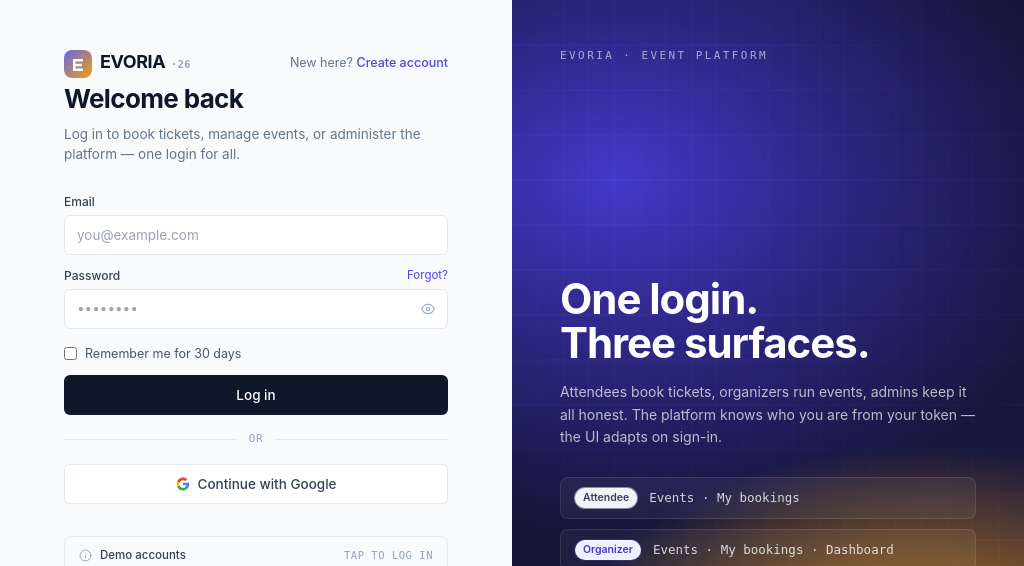
Test: LoginPage › shows an error message on 401
Type "bad@example.com" into the field labelled "Email" at (256,234), box [64, 214, 448, 254]
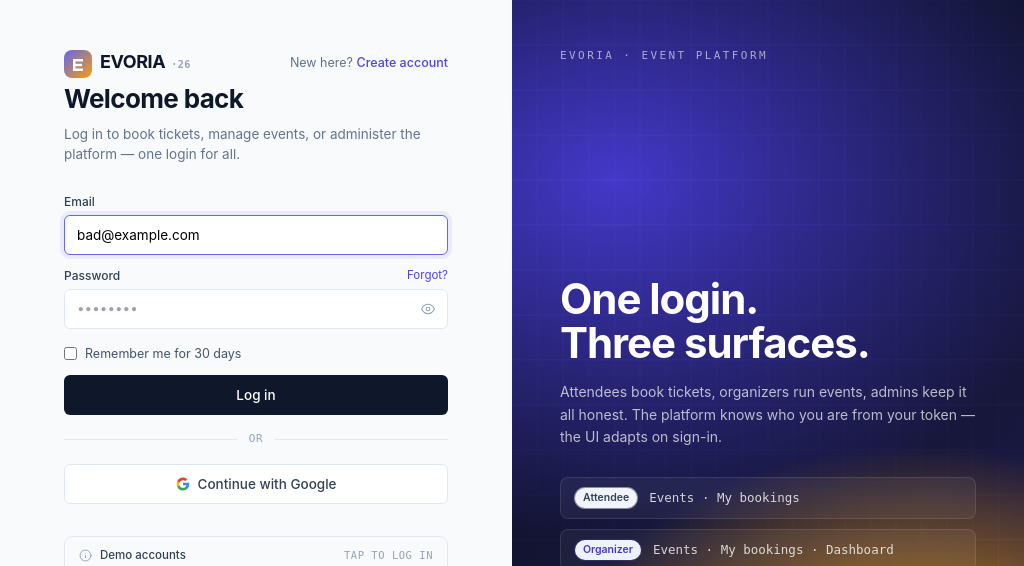
Type "whatever" into the password field labelled "Password" at (249,309), box [77, 298, 421, 319]
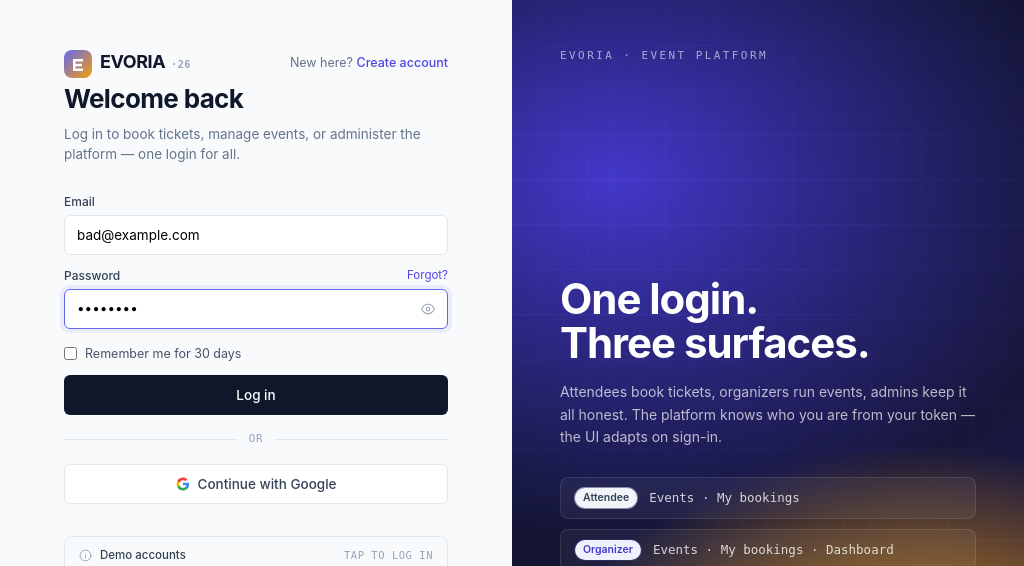
Click the button "Log in" at (256,395), box [64, 375, 448, 415]
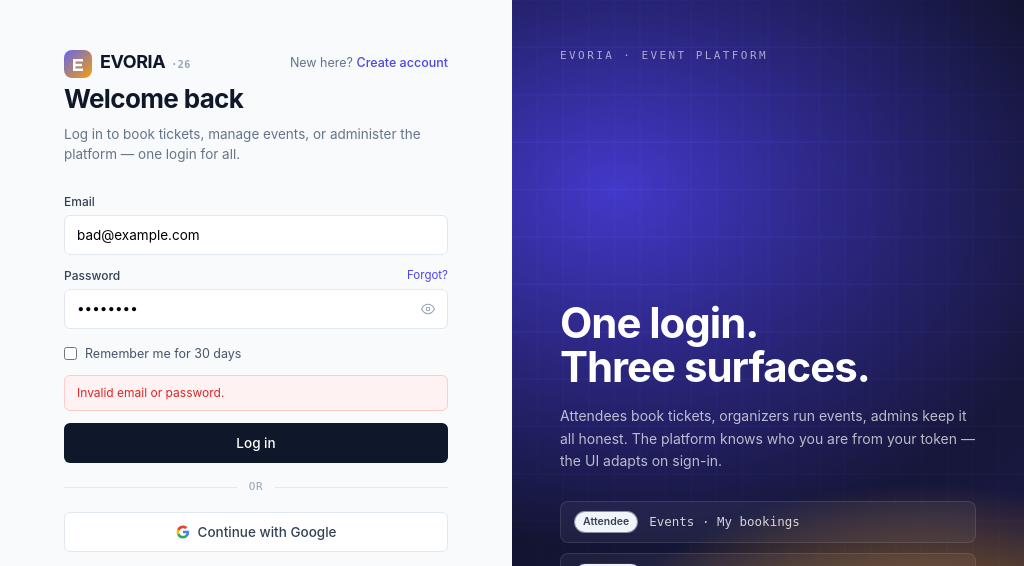
Expected: the message shows "Invalid email or password", [77, 385, 224, 400]
